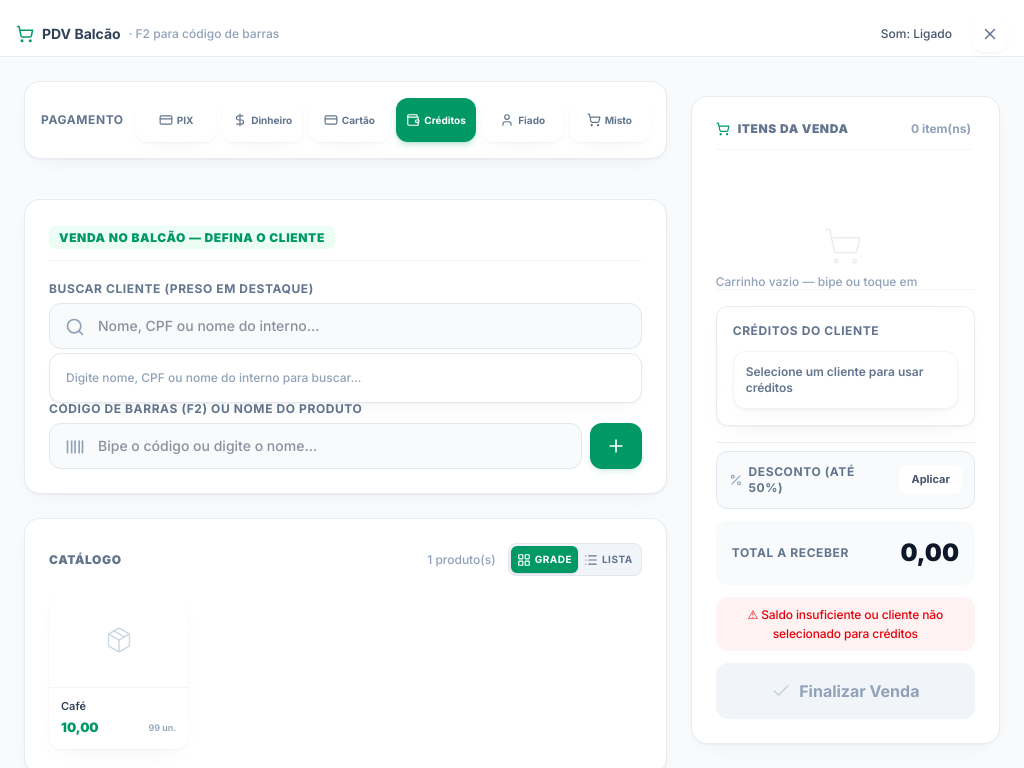
PDV — a tela de pós-venda aparece depois da venda › mostra a confirmação com o autoPrint LIGADO e imprime sozinho
The image size is (1024, 768).
Type "7891000100103" into the field with placeholder "Bipe o código ou digite o nome...".
click(315, 446); type("7891000100103")  # box x1=49 y1=423 x2=582 y2=469
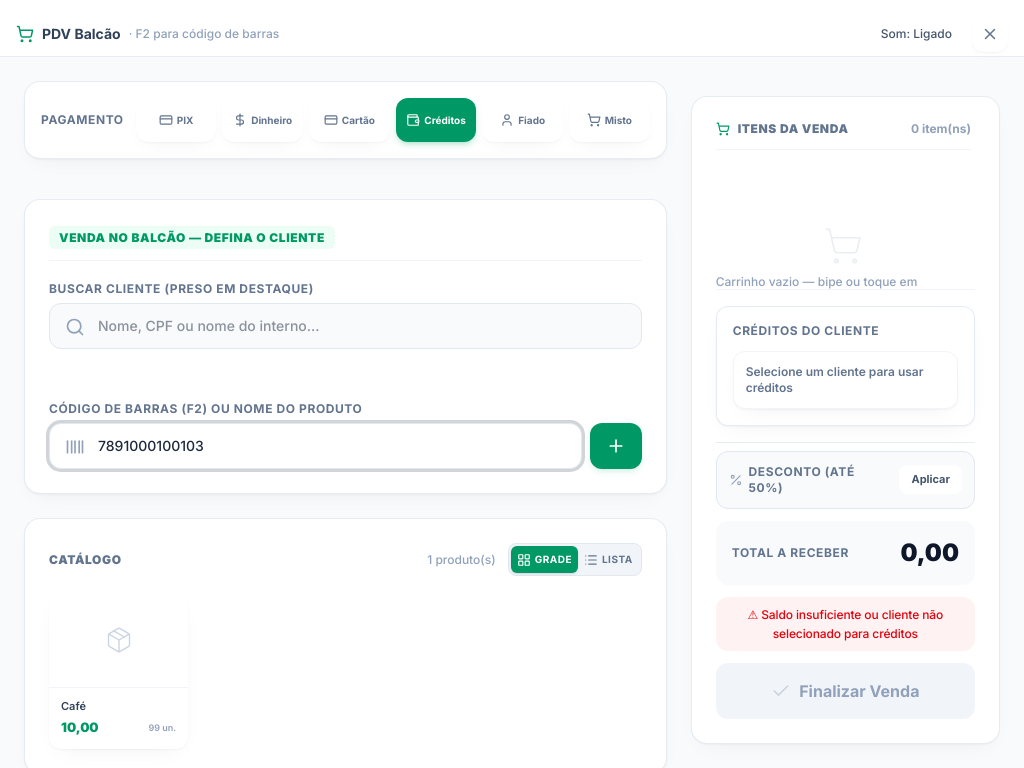
Click the button named "adicionar produto".
click(616, 446)  # box x1=590 y1=423 x2=642 y2=469
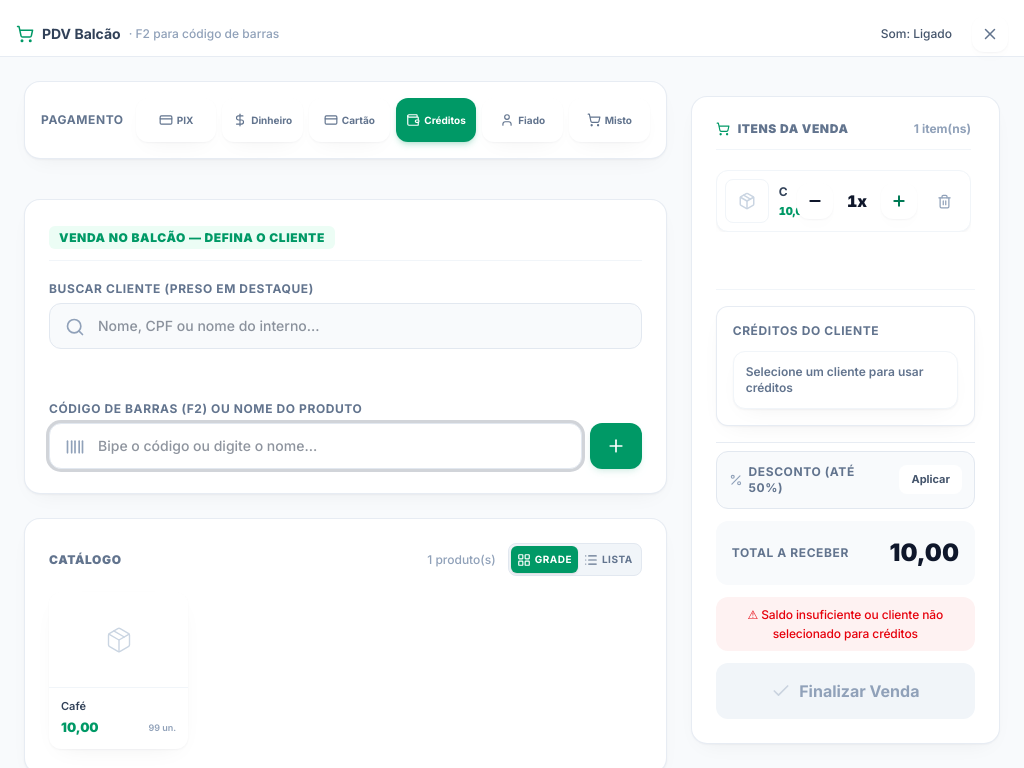
Click the button titled "Dinheiro".
click(263, 120)  # box x1=222 y1=98 x2=303 y2=142
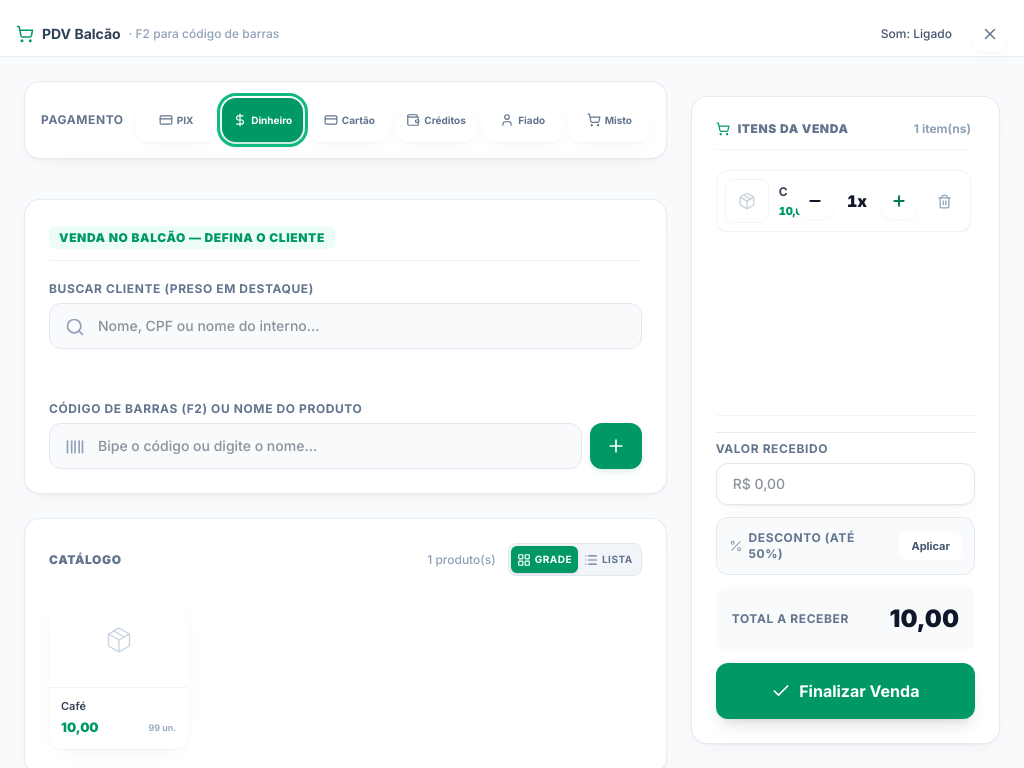
Type "14" into the field labelled "Valor Recebido".
click(845, 484); type("14")  # box x1=716 y1=463 x2=975 y2=505
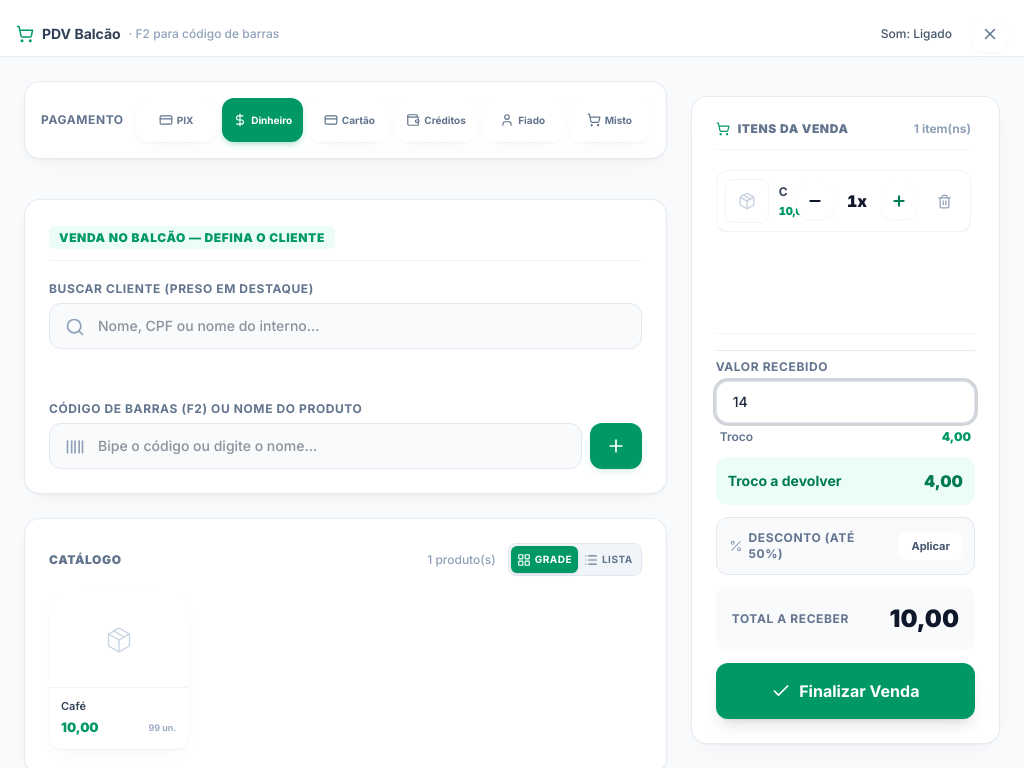
expect the button "Finalizar Venda" is enabled: met
Click the button "Finalizar Venda".
click(845, 691)  # box x1=716 y1=663 x2=975 y2=719
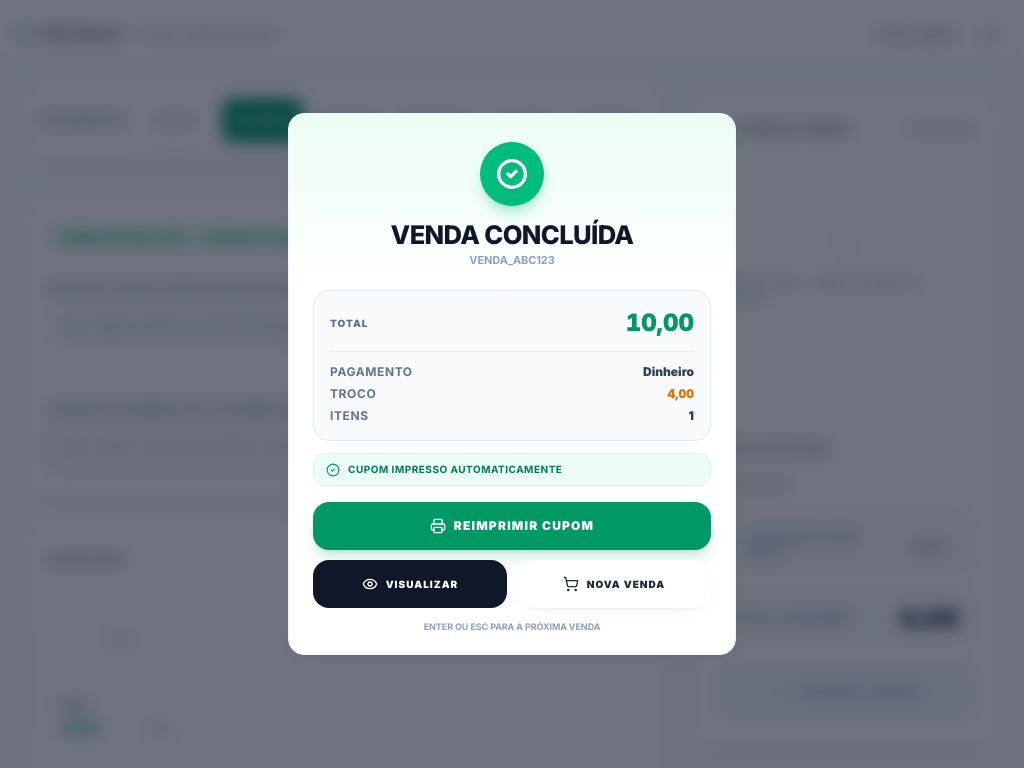
expect the text "10,00" is shown: met, box x1=626 y1=307 x2=694 y2=339
expect the text "4,00" is shown: met, box x1=668 y1=386 x2=694 y2=402
expect the dialog "Venda concluída" is shown: met, box x1=288 y1=113 x2=736 y2=655
